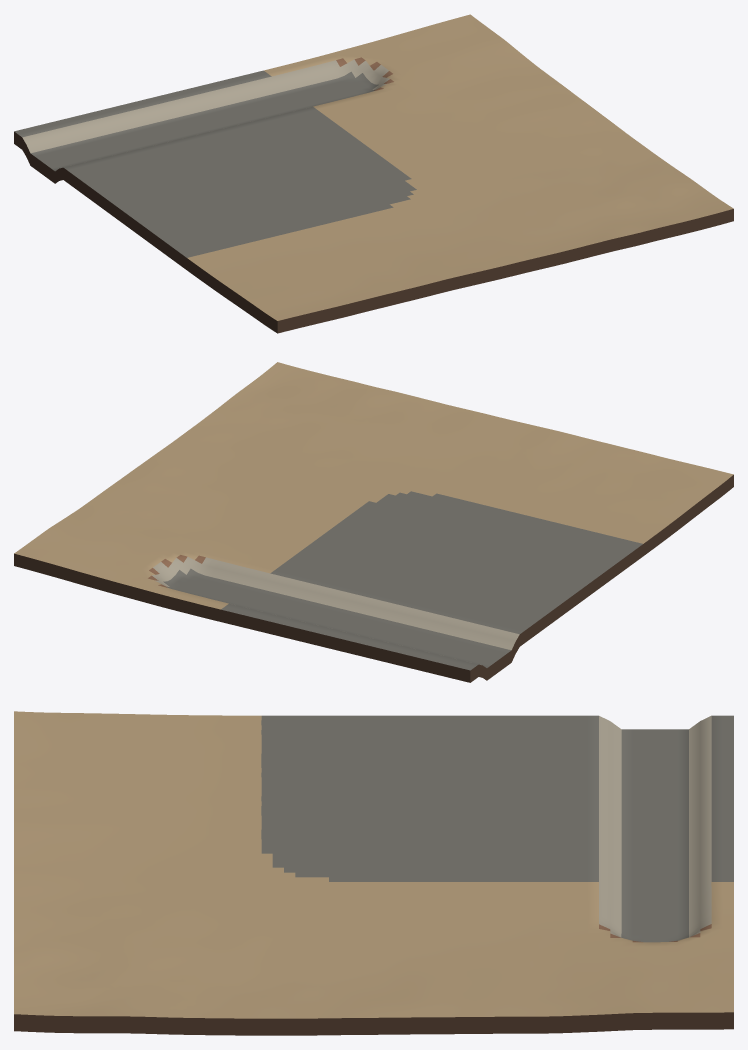
File: Terrain_04_03.fbx
The picture shows the model from 3 angles, top to bottom: view 1: azimuth 30°, elevation 25°; view 2: azimuth 150°, elevation 25°; view 3: azimuth 270°, elevation 25°; orthographic projection. The views are drawn at different scales.
Visible parts, largest first — view 1: Terrain_04_03_LOD0; view 2: Terrain_04_03_LOD0; view 3: Terrain_04_03_LOD0.
Part boxes in pixels (x1,y1,x2,y2): Terrain_04_03_LOD0: (14, 14, 733, 333); Terrain_04_03_LOD0: (14, 362, 733, 682); Terrain_04_03_LOD0: (14, 711, 733, 1035).
Size of what is drawn, in the model's own units: 384 by 22.5 by 384.
